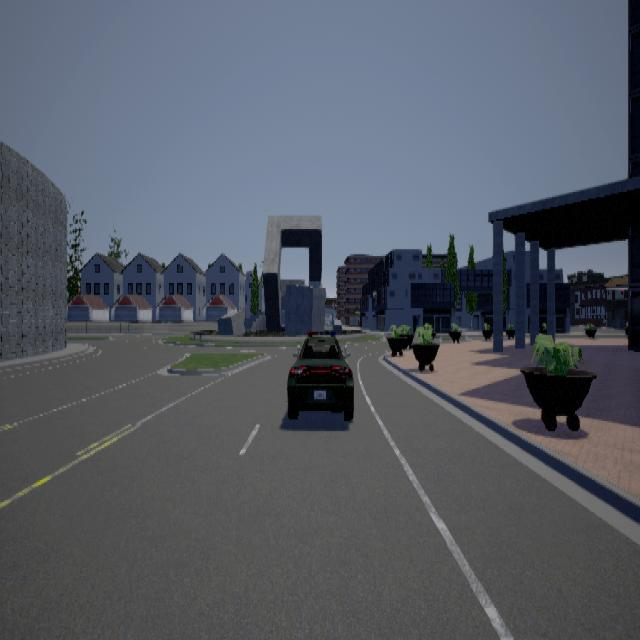traffic_light: (620, 288, 622, 293)
vehicle: (286, 330, 353, 419)
